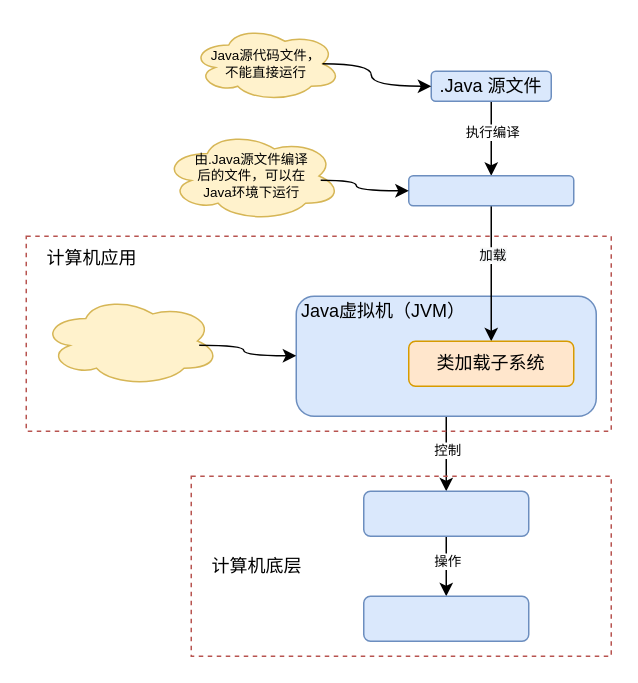
The diagram is 638 pixels wide and 683 high, and some of its shapes have lost their labels. The centre of each missing label's shape, as x and y in pixels:
".class 字节码文件" belongs at [490,190].
"JVM对Java程序进行 解释运行" belongs at [130,340].
"硬件平台" belongs at [445,618].
"计算机系统" belongs at [445,513].
